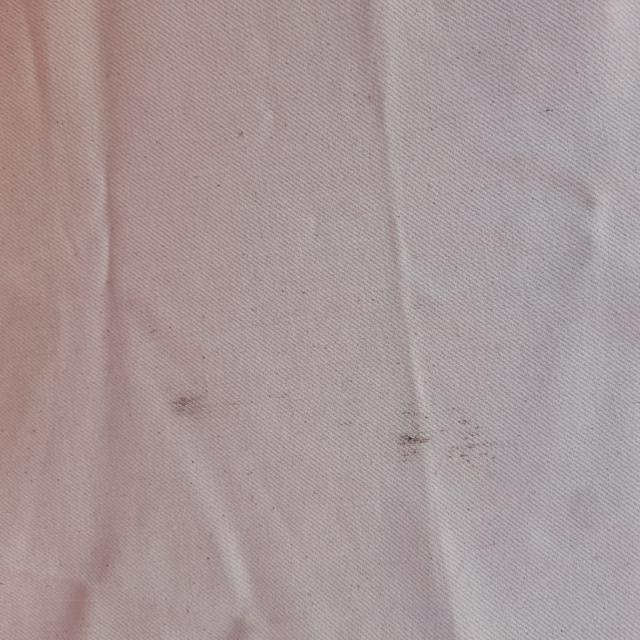taaaches: (382, 378, 483, 492), (157, 366, 227, 429)
